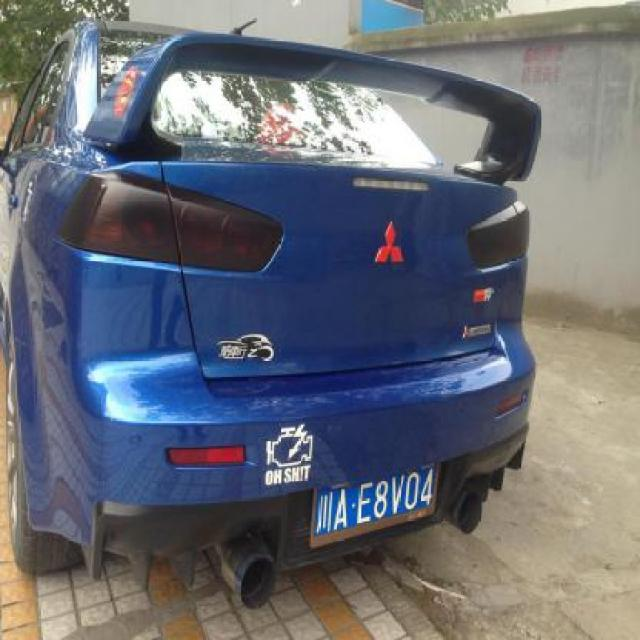License-Plates: (310, 463, 439, 549)
